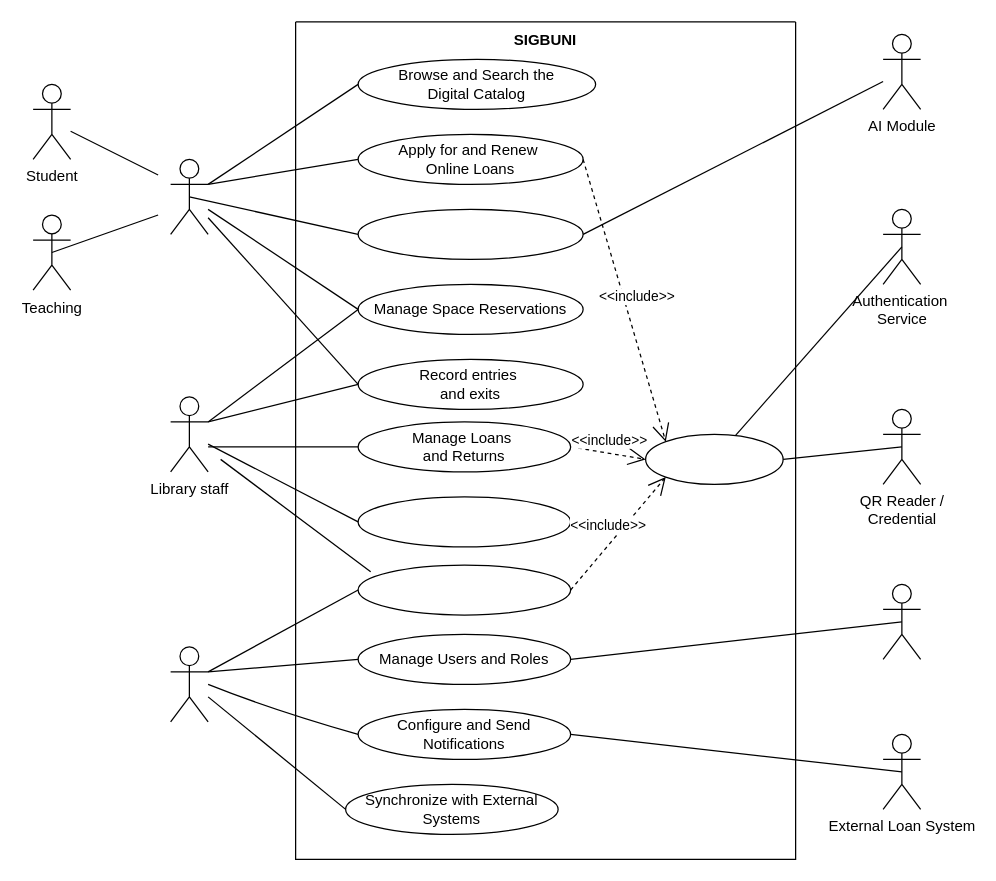
Some shapes in this 996 by 881 pixel diagram are drawn without their labels. Here are the shapes that lost their labels. From the top down, the box of each, then its label:
(169, 158, 208, 234): User
(357, 208, 583, 259): Check Chatbot and AI Recommendations
(644, 433, 783, 484): Authenticate
(357, 496, 571, 547): Manage Material Physical State
(357, 564, 571, 615): Manage Statistical Reports
(882, 583, 921, 659): Email Service / WhatsApp Messaging
(169, 646, 208, 722): IT Administrator
